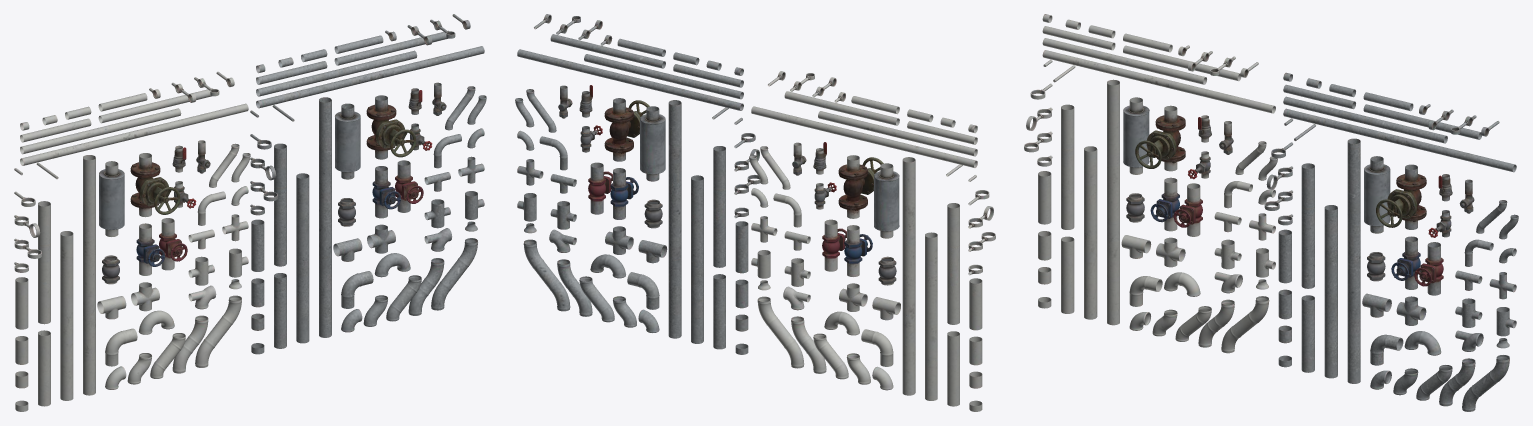
The picture shows the model from 3 angles, left to right: view 1: azimuth 30°, elevation 25°; view 2: azimuth 150°, elevation 25°; view 3: azimuth 330°, elevation 25°; orthographic projection. The views are drawn at different scales.
Parts seen in each view (by area): view 1: pipe_200cm_pvc, pipe_200cm_metal, pipe_140cm_metal, pipe_140cm_pvc, pipe_thin_200cm_pvc, pipe_thin_200cm_metal, pipe_valve_large_metal, pipe_valve_large_pvc, pipe_chamber_large_metal, pipe_chamber_large_pvc, pipe_100cm_metal, pipe_100cm_pvc (+35 smaller); view 2: pipe_200cm_pvc, pipe_200cm_metal, pipe_140cm_pvc, pipe_140cm_metal, pipe_thin_200cm_metal, pipe_thin_200cm_pvc, pipe_chamber_large_metal, pipe_chamber_large_pvc, pipe_valve_large_pvc, pipe_valve_large_metal, pipe_100cm_metal, pipe_100cm_pvc (+35 smaller); view 3: pipe_200cm_metal, pipe_200cm_pvc, pipe_140cm_metal, pipe_140cm_pvc, pipe_thin_200cm_metal, pipe_thin_200cm_pvc, pipe_valve_large_pvc, pipe_valve_large_metal, pipe_100cm_pvc, pipe_100cm_metal, pipe_chamber_large_pvc, pipe_chamber_large_metal (+33 smaller).
Boxes of the visible parts, x1,y1,x2,y2 form: pipe_200cm_pvc: [83, 155, 95, 395]; pipe_200cm_metal: [319, 97, 331, 337]; pipe_140cm_metal: [296, 173, 309, 343]; pipe_140cm_pvc: [60, 231, 73, 400]; pipe_thin_200cm_pvc: [20, 103, 248, 165]; pipe_thin_200cm_metal: [256, 46, 484, 108]; pipe_valve_large_metal: [366, 95, 416, 159]; pipe_valve_large_pvc: [130, 153, 180, 217]; pipe_chamber_large_metal: [335, 103, 360, 179]; pipe_chamber_large_pvc: [99, 161, 124, 236]; pipe_100cm_metal: [274, 143, 286, 266]; pipe_100cm_pvc: [38, 201, 50, 324]; pipe_200cm_pvc: [902, 157, 915, 395]; pipe_200cm_metal: [668, 100, 681, 338]; pipe_140cm_pvc: [925, 232, 937, 400]; pipe_140cm_metal: [691, 175, 703, 343]; pipe_thin_200cm_metal: [517, 49, 743, 110]; pipe_thin_200cm_pvc: [751, 106, 977, 167]; pipe_chamber_large_metal: [640, 106, 665, 181]; pipe_chamber_large_pvc: [874, 163, 899, 238]; pipe_valve_large_pvc: [838, 155, 883, 218]; pipe_valve_large_metal: [604, 98, 649, 161]; pipe_100cm_metal: [713, 146, 725, 267]; pipe_100cm_pvc: [947, 203, 959, 324]; pipe_200cm_metal: [1347, 138, 1360, 383]; pipe_200cm_pvc: [1107, 79, 1119, 325]; pipe_140cm_metal: [1324, 205, 1337, 378]; pipe_140cm_pvc: [1084, 146, 1097, 319]; pipe_thin_200cm_metal: [1283, 108, 1516, 172]; pipe_thin_200cm_pvc: [1042, 50, 1275, 113]; pipe_valve_large_pvc: [1135, 105, 1185, 171]; pipe_valve_large_metal: [1376, 164, 1426, 229]; pipe_100cm_pvc: [1061, 104, 1074, 229]; pipe_100cm_metal: [1301, 163, 1314, 288]; pipe_chamber_large_pvc: [1123, 97, 1149, 174]; pipe_chamber_large_metal: [1364, 156, 1390, 233].
Size of the model in its own units: 4.19 by 2.43 by 0.4578.
2 materials, 2 textured.
